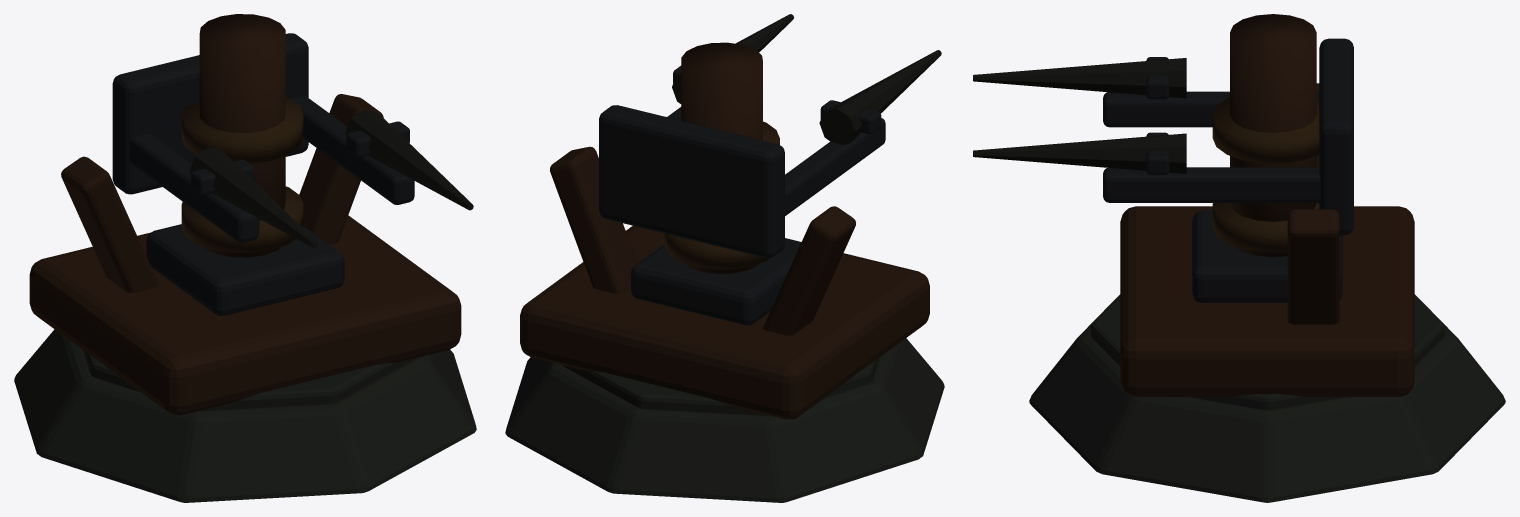
The model's file is TowerAir1.obj.
3 views of the same model, side by side, from view 1: azimuth 30°, elevation 25°; view 2: azimuth 150°, elevation 25°; view 3: azimuth 270°, elevation 25° (orthographic). The views are drawn at different scales.
Parts seen in each view (by area): view 1: cut_stone_socket_lower_course, oak_sky_platform, oak_launch_mast, iron_mast_socket, iron_wind_shroud, oak_angled_stay, oak_angled_stay.001, iron_sky_rail, bronze_guide_collar.001, cut_stone_socket_upper_course, iron_sky_rail.001, sky_lance.001 (+4 smaller); view 2: cut_stone_socket_lower_course, oak_sky_platform, iron_wind_shroud, iron_mast_socket, oak_launch_mast, oak_angled_stay.001, oak_angled_stay, cut_stone_socket_upper_course, iron_sky_rail, sky_lance, bronze_guide_collar, sky_lance.001 (+1 smaller); view 3: cut_stone_socket_lower_course, oak_sky_platform, oak_launch_mast, iron_sky_rail.001, iron_wind_shroud, iron_mast_socket, oak_angled_stay.001, sky_lance, sky_lance.001, cut_stone_socket_upper_course, bronze_guide_collar.001, iron_sky_rail (+3 smaller).
Part boxes in pixels (box(x1,y1,x2,y2)): cut_stone_socket_lower_course: box(14, 329, 476, 502); oak_sky_platform: box(29, 215, 461, 415); oak_launch_mast: box(199, 14, 285, 257); iron_mast_socket: box(146, 224, 344, 315); iron_wind_shroud: box(112, 33, 308, 194); oak_angled_stay: box(61, 156, 158, 292); oak_angled_stay.001: box(299, 94, 383, 244); iron_sky_rail: box(129, 133, 259, 242); bronze_guide_collar.001: box(181, 97, 303, 163); cut_stone_socket_upper_course: box(83, 350, 415, 410); iron_sky_rail.001: box(290, 96, 414, 204); sky_lance.001: box(345, 109, 473, 210); cut_stone_socket_lower_course: box(505, 338, 944, 502); oak_sky_platform: box(520, 225, 929, 419); iron_wind_shroud: box(599, 105, 784, 258); iron_mast_socket: box(631, 238, 801, 325); oak_launch_mast: box(681, 42, 762, 273); oak_angled_stay.001: box(550, 146, 637, 293); oak_angled_stay: box(763, 206, 855, 335); cut_stone_socket_upper_course: box(562, 358, 879, 415); iron_sky_rail: box(785, 118, 885, 215); sky_lance: box(819, 50, 941, 144); bronze_guide_collar: box(664, 233, 770, 269); sky_lance.001: box(672, 14, 794, 103); cut_stone_socket_lower_course: box(1029, 294, 1505, 502); oak_sky_platform: box(1120, 206, 1414, 396); oak_launch_mast: box(1230, 14, 1316, 257); iron_sky_rail.001: box(1103, 167, 1320, 202); iron_wind_shroud: box(1319, 38, 1353, 235); iron_mast_socket: box(1192, 210, 1342, 302); oak_angled_stay.001: box(1287, 209, 1339, 324); sky_lance: box(973, 58, 1186, 98); sky_lance.001: box(973, 133, 1186, 173); cut_stone_socket_upper_course: box(1090, 295, 1444, 410); bronze_guide_collar.001: box(1212, 97, 1319, 163); iron_sky_rail: box(1103, 91, 1319, 127).
Bounding box in the file's own units: 1.65 × 1.42 × 1.85.
